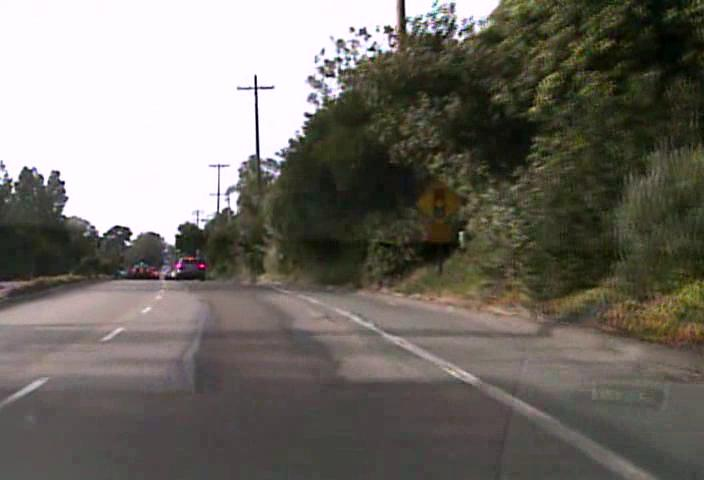signalAhead: (414, 177, 463, 225)
